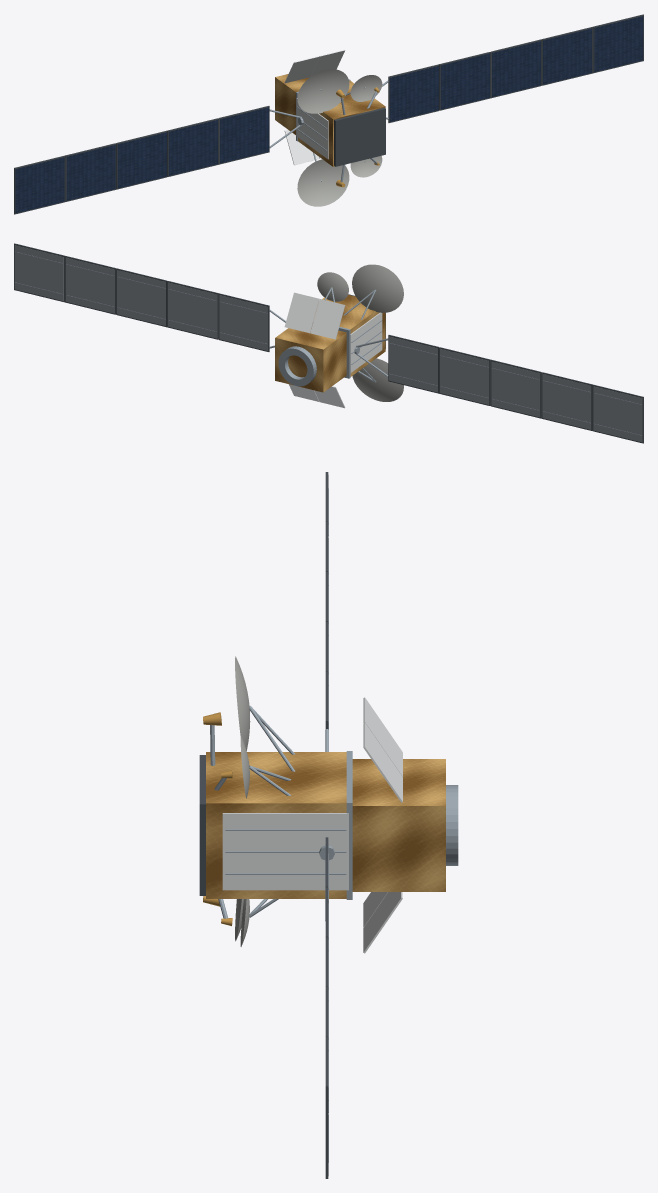
The model's file is ref-dfh-4e-45863.glb.
3 views of the same model, one above another, from view 1: azimuth 30°, elevation 25°; view 2: azimuth 150°, elevation 25°; view 3: azimuth 270°, elevation 25° (orthographic). The views are drawn at different scales.
Visible parts, largest first — view 1: Solar cell panel (×10), Communications reflector (×4), Solar panel frame (×10), Earth-facing deck, Deployed radiator leaf (×3), Payload module, Radiator face, Service module; view 2: Rear array substrate (×10), Communications reflector (×3), Solar panel frame (×9), Service module, Deployed radiator leaf (×3), Radiator face, Payload module, Launch adapter ring; view 3: Service module, Payload module, Radiator face, Deployed radiator leaf (×3), Launch adapter ring, Earth-facing deck.
Boxes of the visible parts, bbox=[...] form: Solar cell panel (×10): bbox=[15, 16, 643, 213]; Communications reflector (×4): bbox=[297, 69, 382, 206]; Solar panel frame (×10): bbox=[14, 14, 643, 214]; Earth-facing deck: bbox=[334, 107, 385, 166]; Deployed radiator leaf (×3): bbox=[284, 49, 345, 165]; Payload module: bbox=[298, 80, 385, 166]; Radiator face: bbox=[296, 98, 328, 159]; Service module: bbox=[275, 74, 309, 134]; Rear array substrate (×10): bbox=[14, 245, 642, 442]; Communications reflector (×3): bbox=[317, 264, 403, 401]; Solar panel frame (×9): bbox=[65, 256, 643, 443]; Service module: bbox=[275, 328, 346, 392]; Deployed radiator leaf (×3): bbox=[284, 292, 345, 408]; Radiator face: bbox=[350, 312, 382, 373]; Payload module: bbox=[315, 294, 385, 376]; Launch adapter ring: bbox=[278, 346, 316, 386]; Service module: bbox=[352, 759, 445, 891]; Payload module: bbox=[206, 752, 346, 898]; Radiator face: bbox=[222, 813, 348, 890]; Deployed radiator leaf (×3): bbox=[363, 697, 402, 953]; Launch adapter ring: bbox=[446, 785, 458, 865]; Earth-facing deck: bbox=[199, 755, 205, 895].
Size of the model in its own units: 29.98 by 6.19 by 5.34.
Materials: 8 (2 with a texture image).
